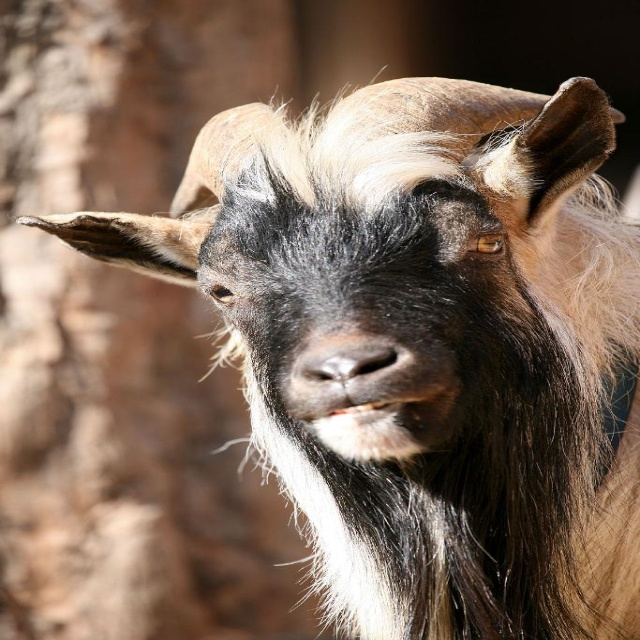Goat: (20, 78, 639, 640)
